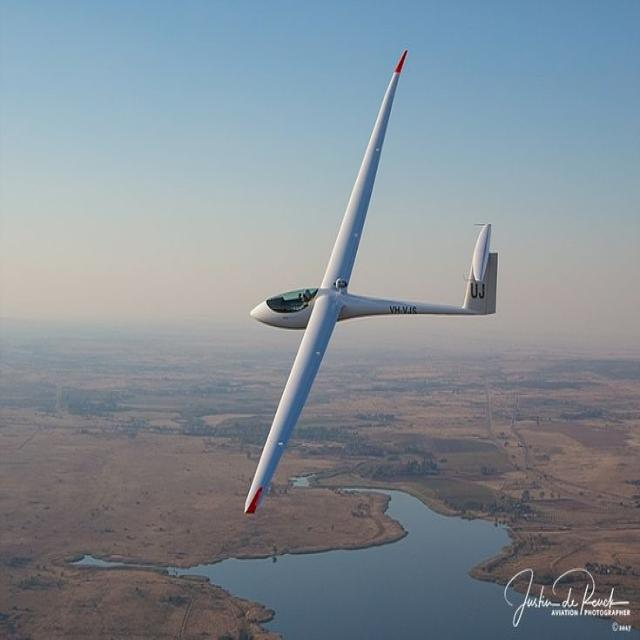iha: (242, 45, 500, 518)
